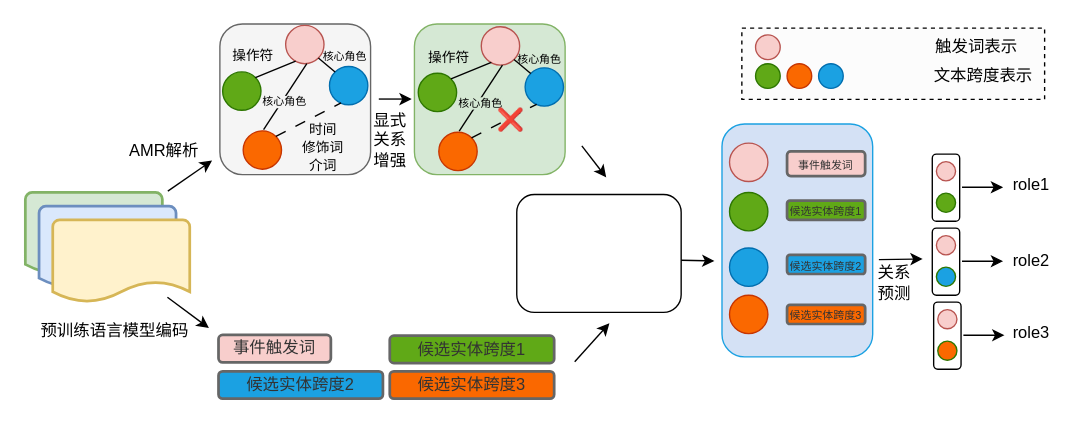
This 1088x423 diagram has some shape labels left out. The centre of each missing label's shape, as x and y in pixels:
AMR与文本对齐: the point at 598,252
文档 1: the point at 120,260
